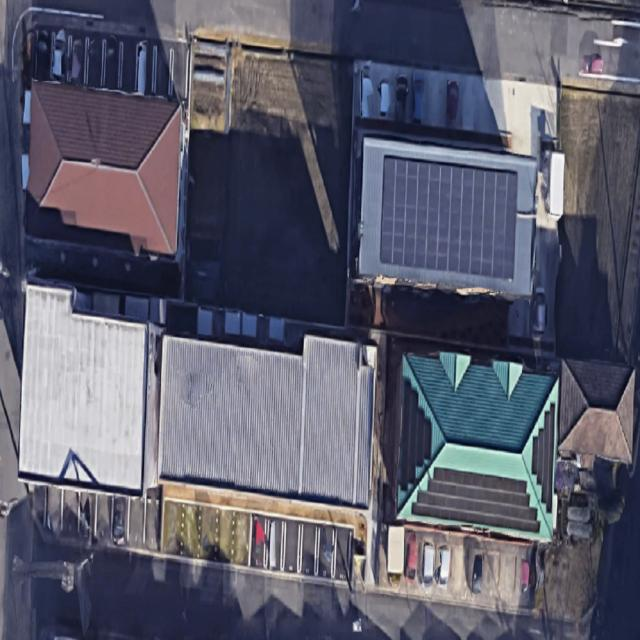Batiment: (159, 337, 375, 506), (398, 352, 558, 540), (359, 138, 536, 297), (26, 81, 181, 256), (19, 286, 146, 492), (559, 363, 634, 468)
